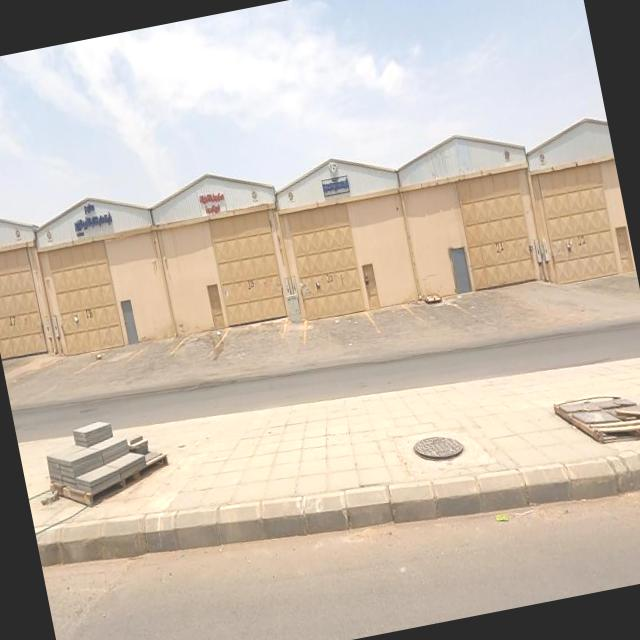debris: (512, 330, 640, 497), (78, 332, 128, 378), (199, 314, 243, 356)
